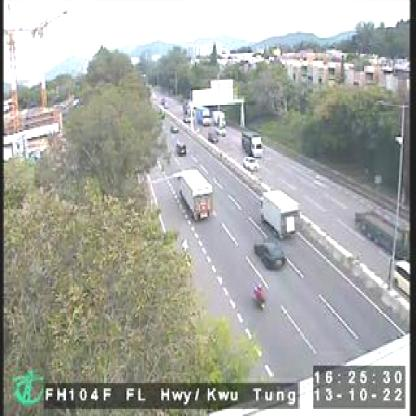Car: (254, 240, 286, 269), (395, 257, 414, 300), (243, 156, 258, 173), (176, 139, 186, 156), (208, 131, 220, 144), (216, 123, 227, 135), (170, 122, 179, 132)
Truck: (356, 209, 410, 261), (259, 186, 299, 237), (180, 170, 216, 220), (241, 129, 264, 159), (195, 106, 212, 128)
